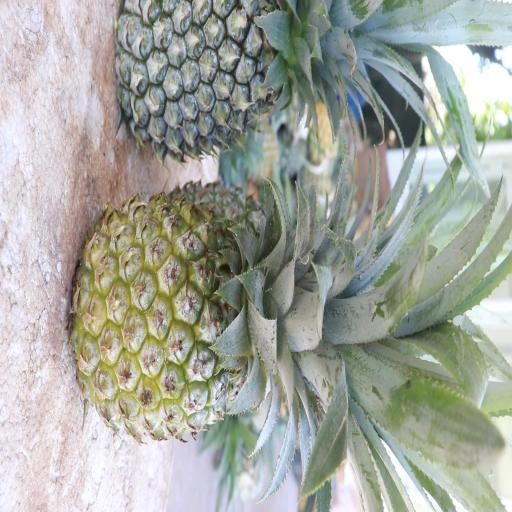------------------------------: (68, 173, 364, 453)
